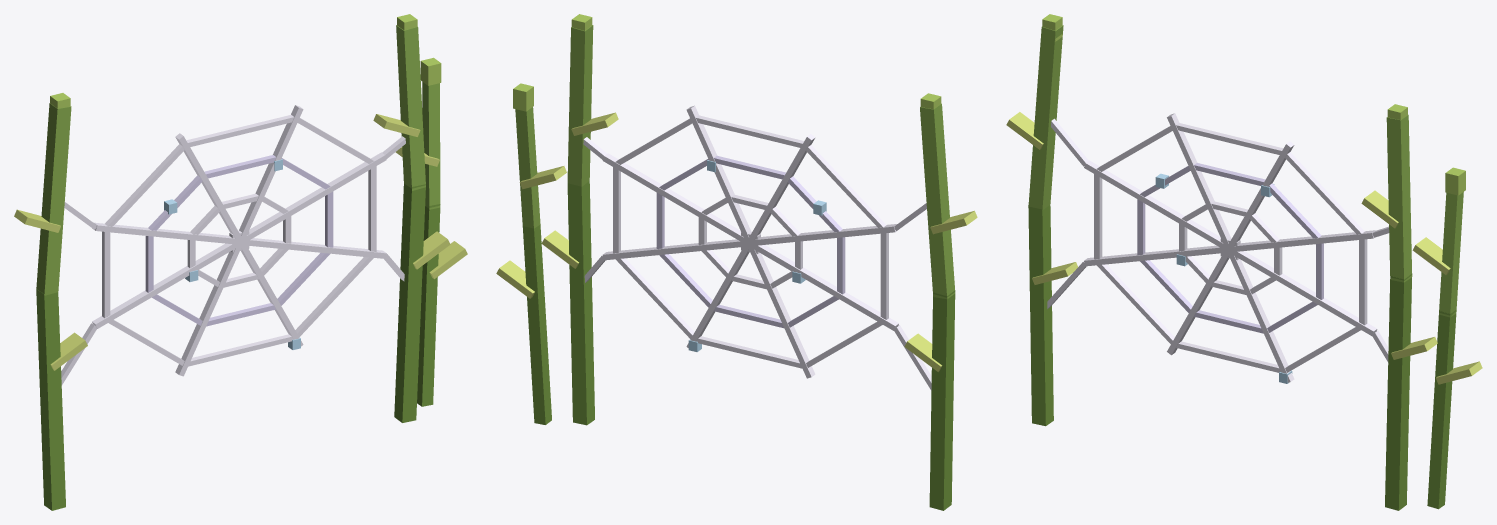
File: spider-web-google_cM0NzColM_0-blocky.glb
3 views of the same model, side by side, from view 1: azimuth 30°, elevation 25°; view 2: azimuth 150°, elevation 25°; view 3: azimuth 330°, elevation 25° (orthographic).
Visible parts, largest first — view 1: Spider_web; view 2: Spider_web; view 3: Spider_web.
Part boxes in pixels (left/top/right/bottom): Spider_web: left=14, top=14, right=467, bottom=510; Spider_web: left=496, top=14, right=977, bottom=510; Spider_web: left=1006, top=14, right=1482, bottom=510.
Size of the model in its own units: 2.44 by 2.08 by 0.2591.
1 material, 1 textured.
